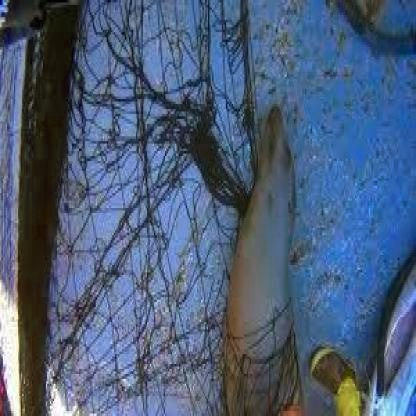net: (43, 10, 241, 416)
